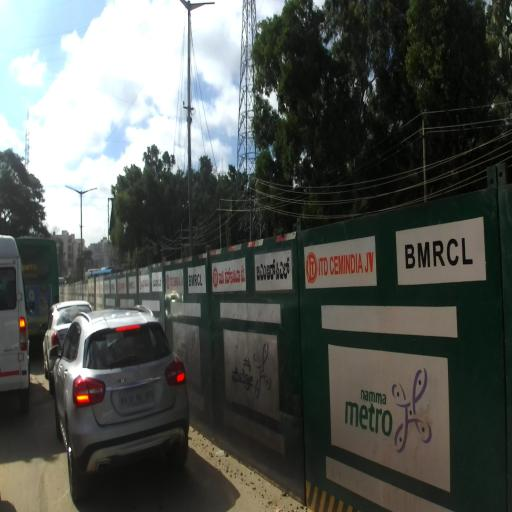street_light_0: (187, 1, 216, 17), (65, 186, 82, 198), (80, 187, 98, 198)
